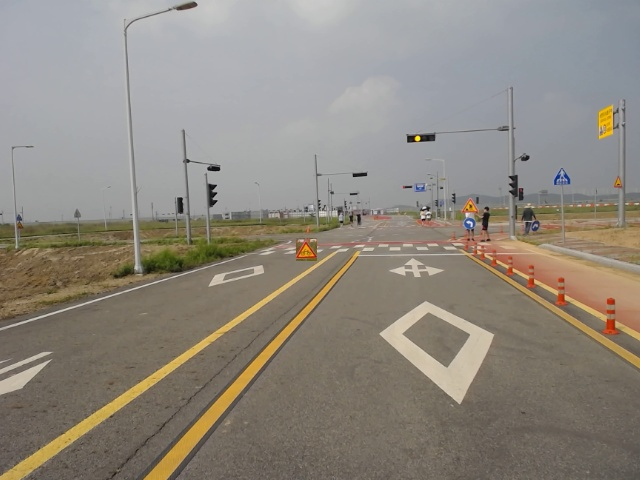orange_4: (407, 132, 434, 144)
